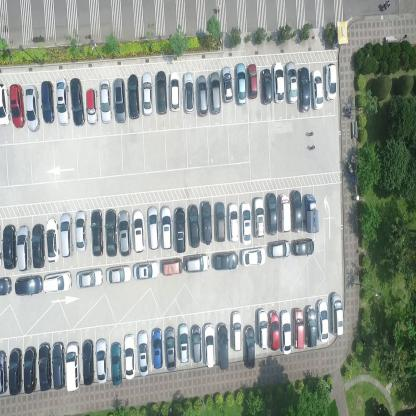car: (69, 77, 86, 126), (8, 83, 26, 128), (65, 342, 81, 391), (24, 84, 40, 132), (16, 224, 32, 272), (38, 342, 53, 392), (45, 218, 61, 264), (90, 209, 105, 257), (2, 224, 18, 269), (8, 348, 23, 396), (43, 270, 73, 294), (52, 340, 66, 390), (59, 212, 74, 258), (40, 81, 56, 124), (118, 208, 132, 257), (105, 208, 119, 257), (95, 338, 109, 385), (23, 346, 37, 393), (304, 191, 319, 234), (31, 223, 45, 269), (330, 292, 344, 338), (56, 76, 69, 125), (82, 338, 95, 387), (113, 78, 127, 123), (132, 208, 146, 253), (127, 73, 140, 121), (174, 206, 187, 254), (76, 267, 103, 290), (292, 308, 306, 352), (256, 306, 270, 350), (155, 69, 168, 116), (203, 322, 216, 368), (137, 330, 150, 376), (184, 253, 211, 275), (310, 68, 324, 110), (298, 65, 310, 114), (272, 60, 286, 102), (217, 322, 229, 371), (141, 71, 154, 116), (99, 79, 112, 124), (290, 189, 303, 234), (305, 304, 318, 349), (124, 332, 136, 380), (209, 72, 222, 116), (147, 206, 160, 250), (316, 298, 329, 342), (280, 308, 292, 355), (285, 60, 298, 103), (266, 190, 278, 236), (110, 340, 122, 386), (14, 276, 43, 295), (75, 210, 88, 252), (151, 328, 164, 370), (213, 250, 239, 271), (235, 62, 247, 107), (201, 200, 213, 245), (188, 203, 200, 248), (324, 61, 337, 102), (279, 192, 292, 233), (228, 200, 240, 244), (133, 260, 159, 280), (161, 203, 172, 250), (183, 70, 195, 113), (86, 87, 99, 126), (241, 199, 252, 245), (165, 325, 176, 371), (169, 70, 181, 112), (178, 322, 190, 364), (0, 82, 11, 127), (105, 266, 132, 284), (254, 196, 265, 240), (269, 308, 280, 352), (244, 324, 255, 368), (221, 65, 233, 105), (242, 246, 266, 266), (215, 200, 226, 243), (197, 74, 208, 116), (231, 310, 242, 352), (269, 239, 292, 259), (261, 67, 273, 105), (191, 324, 202, 365), (292, 237, 315, 256), (247, 62, 258, 100), (161, 257, 182, 276), (0, 349, 8, 394), (0, 276, 13, 296)
